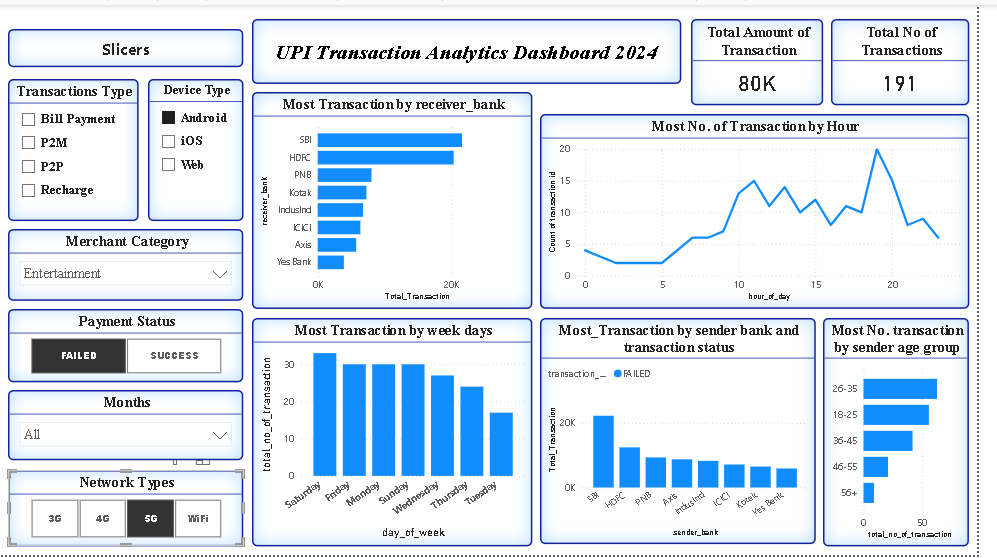

What the dashboard file says about the page in this screenshot:
{"tool":"powerbi","page":{"name":"Page 1","canvas":[1280,720],"ordinal":0},"visuals":[{"type":"card","title":"Total Amount of Transaction ","fields":{"Values":["upi_transactions_2024.Total_Transaction"]},"box":[905.9,18.3,172.8,112.6],"z":0},{"type":"slicer","title":"Payment Status","fields":{"Values":["upi_transactions_2024.transaction_status"]},"box":[12.4,397.8,308.3,96.3],"z":1000},{"type":"slicer","title":"Merchant Category","fields":{"Values":["upi_transactions_2024.merchant_category"]},"box":[12.4,293.2,308.3,93.6],"z":2000},{"type":"slicer","title":"Transactions Type","fields":{"Values":["upi_transactions_2024.transaction type"]},"box":[12.4,96.3,170.7,185.8],"z":3000},{"type":"slicer","title":"Network Types","fields":{"Values":["upi_transactions_2024.network_type"]},"box":[12.4,608.3,308.3,100.5],"z":4000},{"type":"slicer","title":"Device Type","fields":{"Values":["upi_transactions_2024.device_type"]},"box":[195.4,96.3,125.2,185.8],"z":5000},{"type":"card","title":"Total No of Transactions","fields":{"Values":["upi_transactions_2024.total_no_of_transaction"]},"box":[1089.2,18.3,180.7,112.6],"z":6000},{"type":"columnChart","title":"Most Transaction by week days","fields":{"Category":["upi_transactions_2024.day_of_week"],"Y":["upi_transactions_2024.total_no_of_transaction"]},"box":[331.7,410.2,367.5,298.7],"z":7000},{"type":"barChart","title":"Most Transaction by receiver_bank","fields":{"Category":["upi_transactions_2024.receiver_bank"],"Y":["upi_transactions_2024.Total_Transaction"]},"box":[331.7,114.2,367.5,283.5],"z":8000},{"type":"barChart","title":"Most No. transaction by sender age group","fields":{"Y":["upi_transactions_2024.total_no_of_transaction"],"Category":["upi_transactions_2024.sender_age_group"]},"box":[1079.1,410.2,191.3,298.7],"z":9000},{"type":"clusteredColumnChart","title":"Most_Transaction by sender bank and transaction status","fields":{"Category":["upi_transactions_2024.sender_bank"],"Series":["upi_transactions_2024.transaction_status"],"Y":["upi_transactions_2024.Total_Transaction"]},"box":[708.8,410.2,360.6,295.9],"z":10000},{"type":"textbox","box":[331.7,17.9,561.5,85.3],"z":11000},{"type":"textbox","title":"Slicer","box":[12.4,31.7,308.3,49.5],"z":12000},{"type":"slicer","title":"Months","fields":{"Values":["upi_transactions_2024.month"]},"box":[12.4,503.7,308.3,92.2],"z":13000},{"type":"lineChart","title":"Most No. of Transaction  by Hour","fields":{"Y":["CountNonNull(upi_transactions_2024.transaction id)"],"Category":["upi_transactions_2024.hour_of_day"]},"box":[708.8,143.1,561.5,254.6],"z":14000}]}

Visuals, with their boxes in screenshot pixels (x1, y1, x2, y2), scaled from the page's 1280x720 canvas onto the 997x558 screenshot:
"Total Amount of Transaction " card: region(706, 14, 840, 101)
"Payment Status" slicer: region(10, 308, 250, 383)
"Merchant Category" slicer: region(10, 227, 250, 300)
"Transactions Type" slicer: region(10, 75, 143, 219)
"Network Types" slicer: region(10, 471, 250, 549)
"Device Type" slicer: region(152, 75, 250, 219)
"Total No of Transactions" card: region(848, 14, 989, 101)
"Most Transaction by week days" columnChart: region(258, 318, 545, 549)
"Most Transaction by receiver_bank" barChart: region(258, 89, 545, 308)
"Most No. transaction by sender age group" barChart: region(841, 318, 990, 549)
"Most_Transaction by sender bank and transaction status" clusteredColumnChart: region(552, 318, 833, 547)
textbox: region(258, 14, 696, 80)
"Slicer" textbox: region(10, 25, 250, 63)
"Months" slicer: region(10, 390, 250, 462)
"Most No. of Transaction  by Hour" lineChart: region(552, 111, 989, 308)
